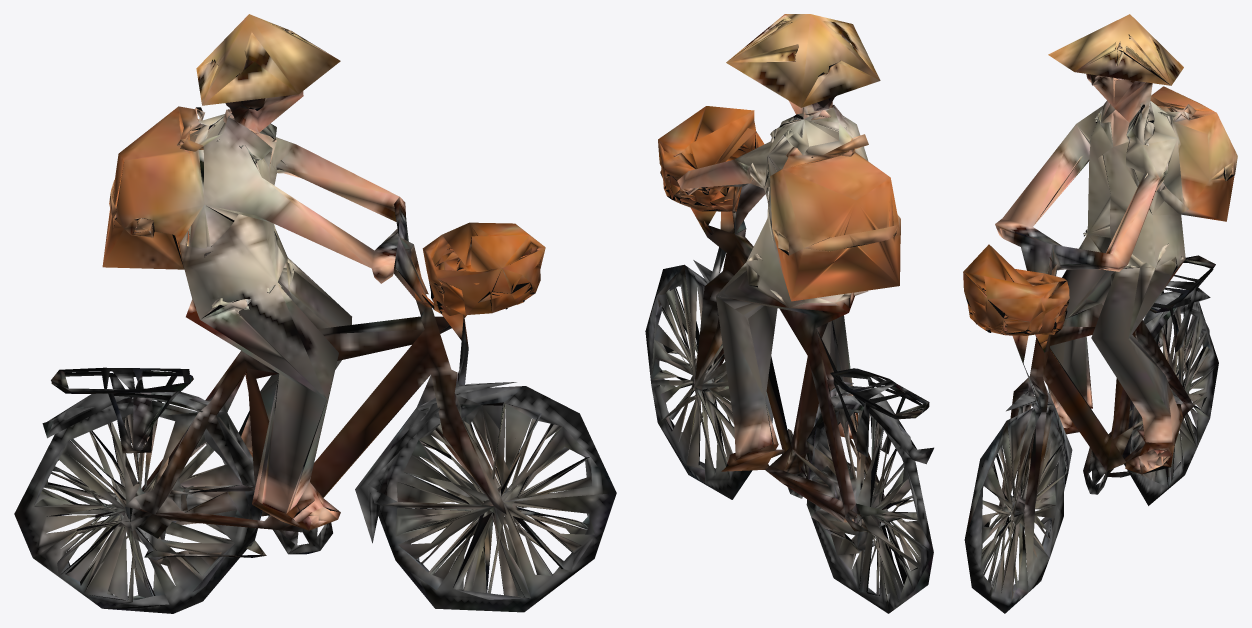
File: bicycle.glb
3 views of the same model, side by side, from view 1: azimuth 30°, elevation 25°; view 2: azimuth 150°, elevation 25°; view 3: azimuth 270°, elevation 25° (orthographic). The views are drawn at different scales.
Parts seen in each view (by area): view 1: bicycle; view 2: bicycle; view 3: bicycle.
Boxes of the visible parts, x1,y1,x2,y2 form: bicycle: [14, 14, 616, 613]; bicycle: [645, 14, 933, 613]; bicycle: [963, 14, 1237, 613].
Bounding box in the file's own units: 1.6 × 1.99 × 0.9654.
1 material, 1 textured.
